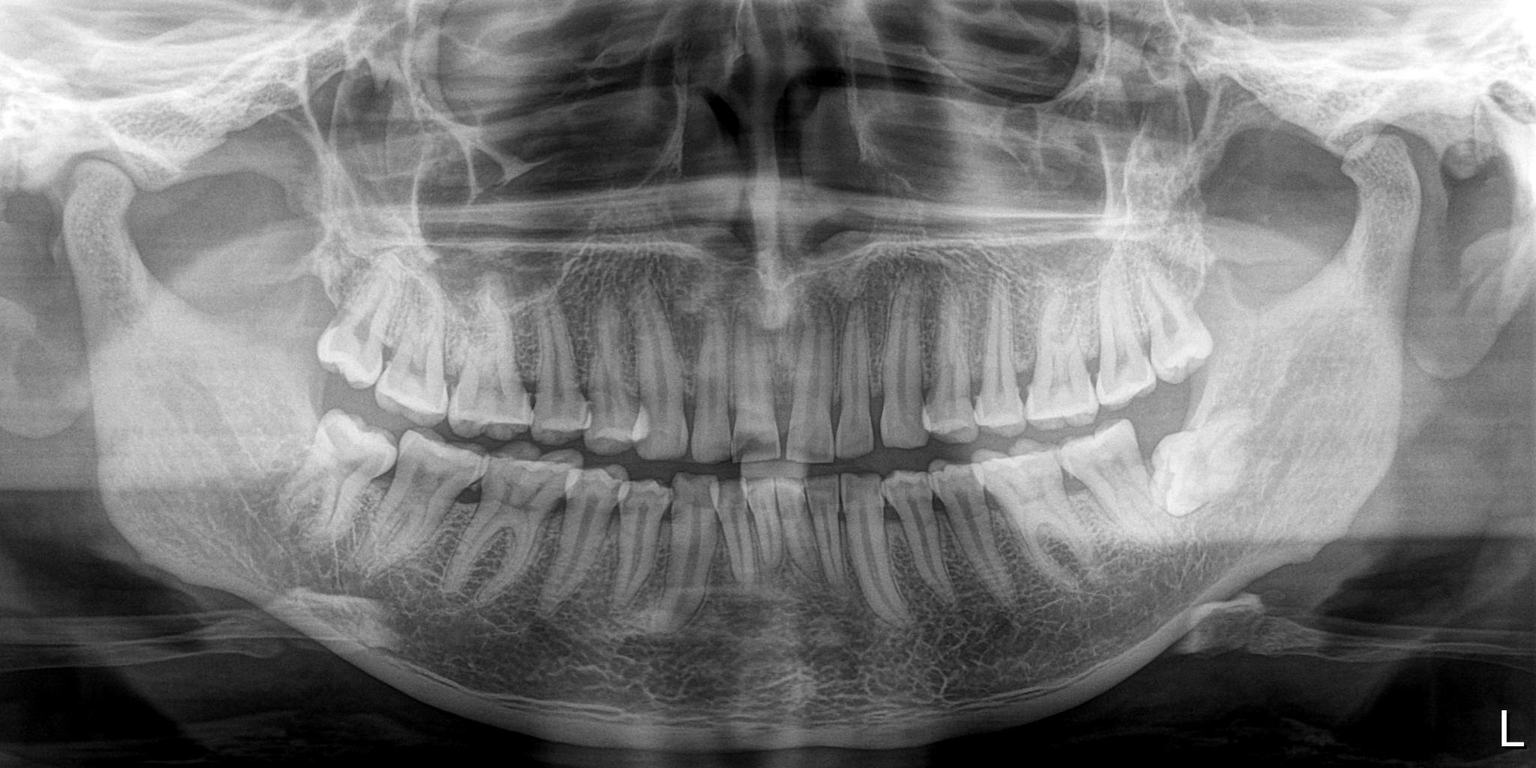Impacted Third Molar: (291, 414, 386, 538), (1148, 420, 1253, 511)
